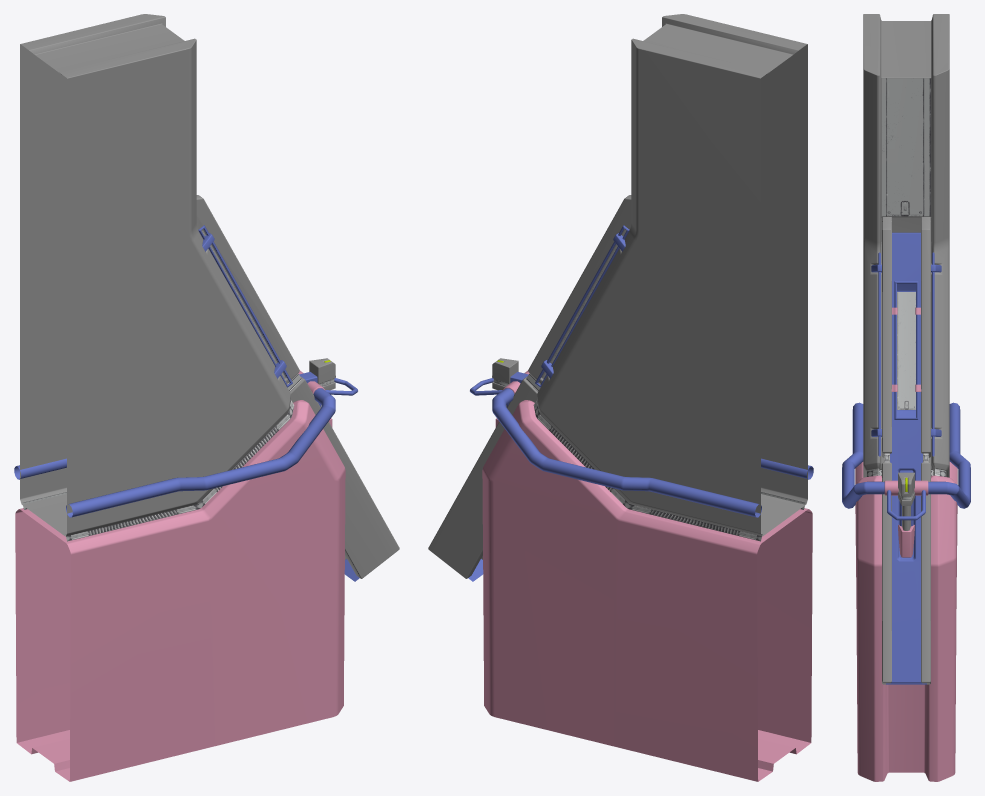
File: CorridorPillar.FBX
3 renders of one model, left to right at view 1: azimuth 30°, elevation 25°; view 2: azimuth 150°, elevation 25°; view 3: azimuth 270°, elevation 25°, orthographic. The views are drawn at different scales.
Parts seen in each view (by area): view 1: Box012, Object003, Box024, Line017, Object005, Shape; view 2: Box012, Object003, Box024, Line017, Object005, Shape; view 3: Box012, Object003, Box025, Box024, Line017, Shape, Shape001, Object009, Box026, Line018, Line019.
Boxes of the visible parts, x1,y1,x2,y2 form: Box012: (20, 14, 290, 536); Object003: (15, 400, 345, 781); Box024: (196, 195, 399, 578); Line017: (14, 388, 335, 517); Object005: (22, 400, 294, 541); Shape: (198, 225, 292, 387); Box012: (537, 14, 807, 536); Object003: (482, 400, 812, 781); Box024: (428, 195, 631, 578); Line017: (492, 388, 813, 517); Object005: (533, 400, 805, 541); Shape: (535, 225, 629, 387); Box012: (863, 14, 949, 477); Object003: (855, 462, 957, 781); Box025: (886, 232, 926, 684); Box024: (882, 217, 930, 684); Line017: (842, 402, 970, 508); Shape: (878, 252, 934, 456); Shape001: (894, 281, 918, 419); Object009: (898, 472, 914, 505); Box026: (898, 525, 914, 557); Line018: (884, 480, 928, 495); Line019: (887, 490, 925, 520).
Size of the model in its own units: 422 by 822 by 149.
